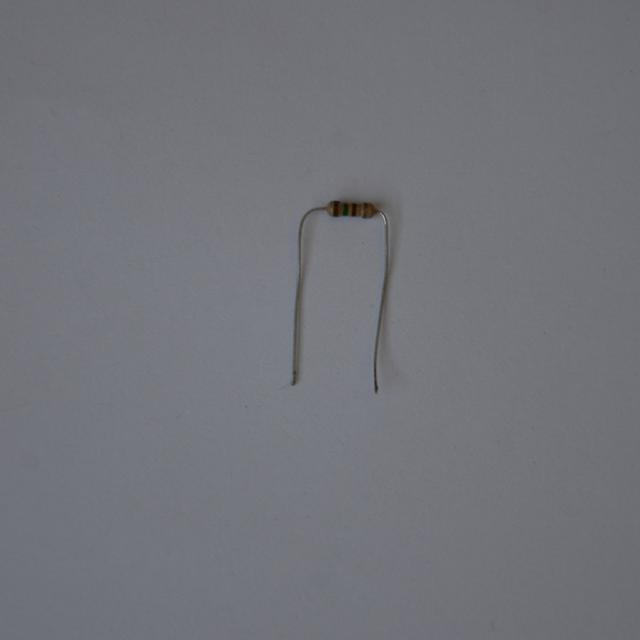brown: (352, 202, 356, 215)
gold: (362, 203, 367, 217)
green: (333, 201, 340, 216), (344, 204, 348, 214)
resistor: (321, 194, 383, 228)
